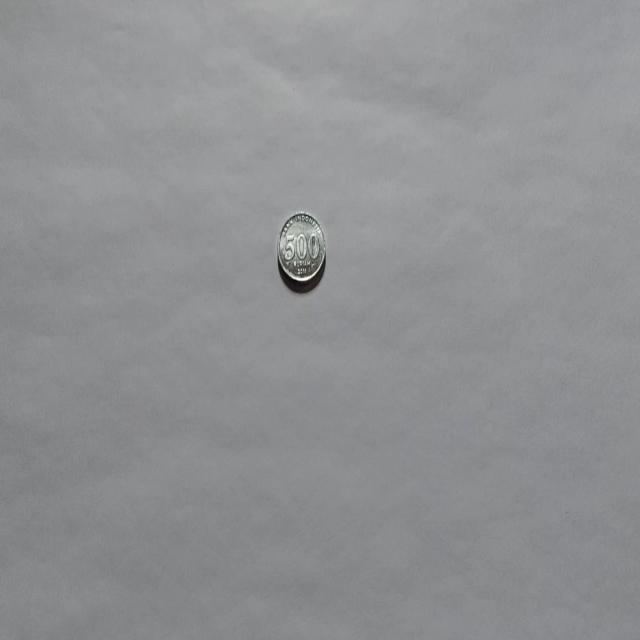lima ratus rupiah: (276, 210, 326, 289)
